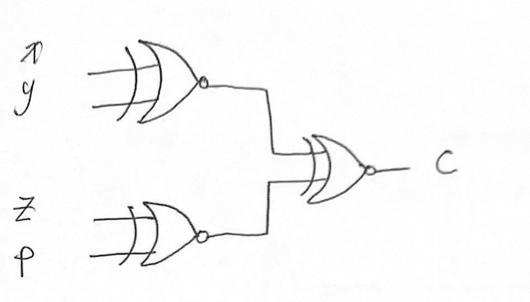XNOR: (115, 31, 223, 138), (296, 120, 379, 223), (119, 192, 214, 277)
